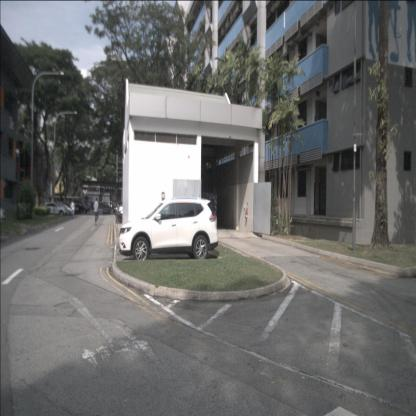human-pedestrian-adult: (93, 198, 99, 226), (70, 198, 76, 220)
vehicle-car: (118, 197, 218, 262), (41, 202, 65, 216), (66, 200, 88, 214), (53, 204, 73, 215), (102, 204, 110, 214), (108, 201, 113, 209)
vehicle-motorcycle: (115, 210, 126, 224)
